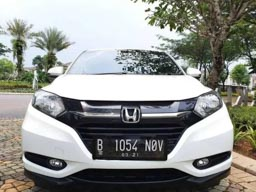plat: (94, 137, 164, 151)
